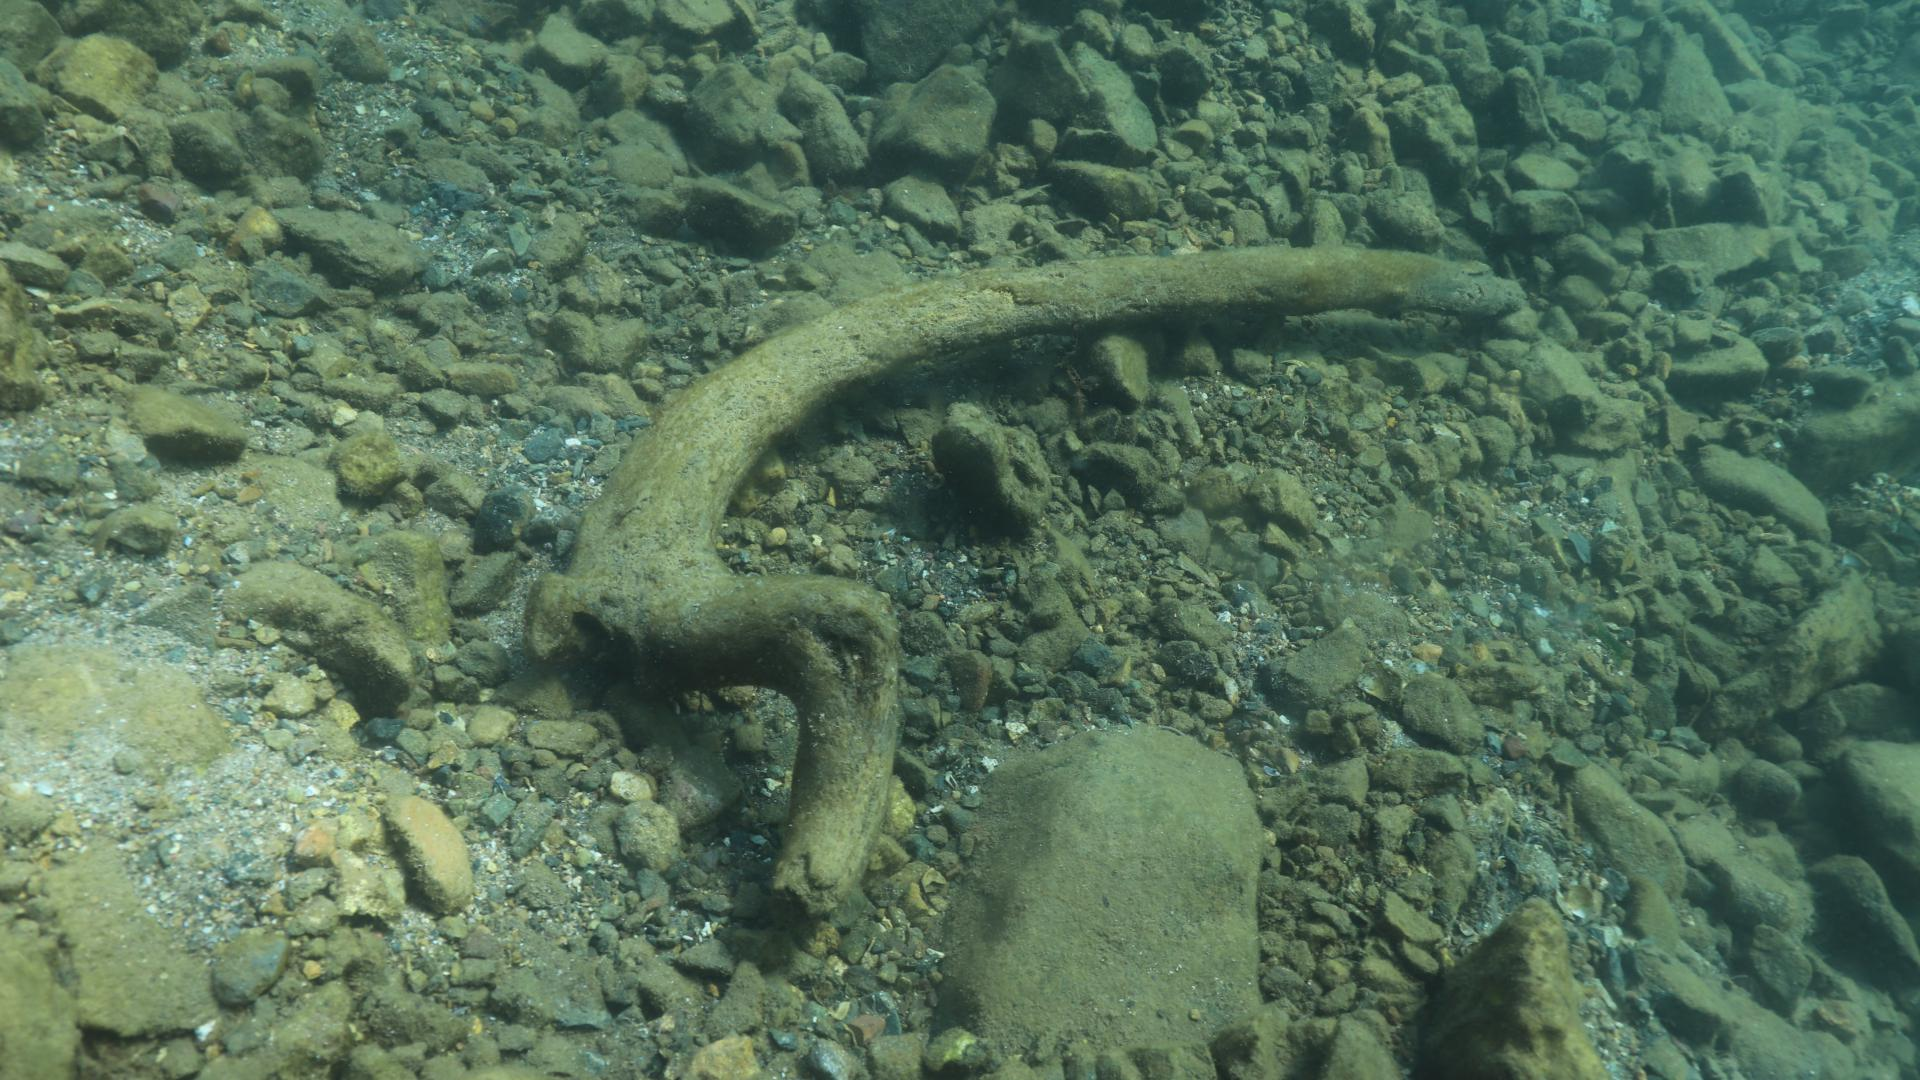wood: (522, 244, 1527, 919)
